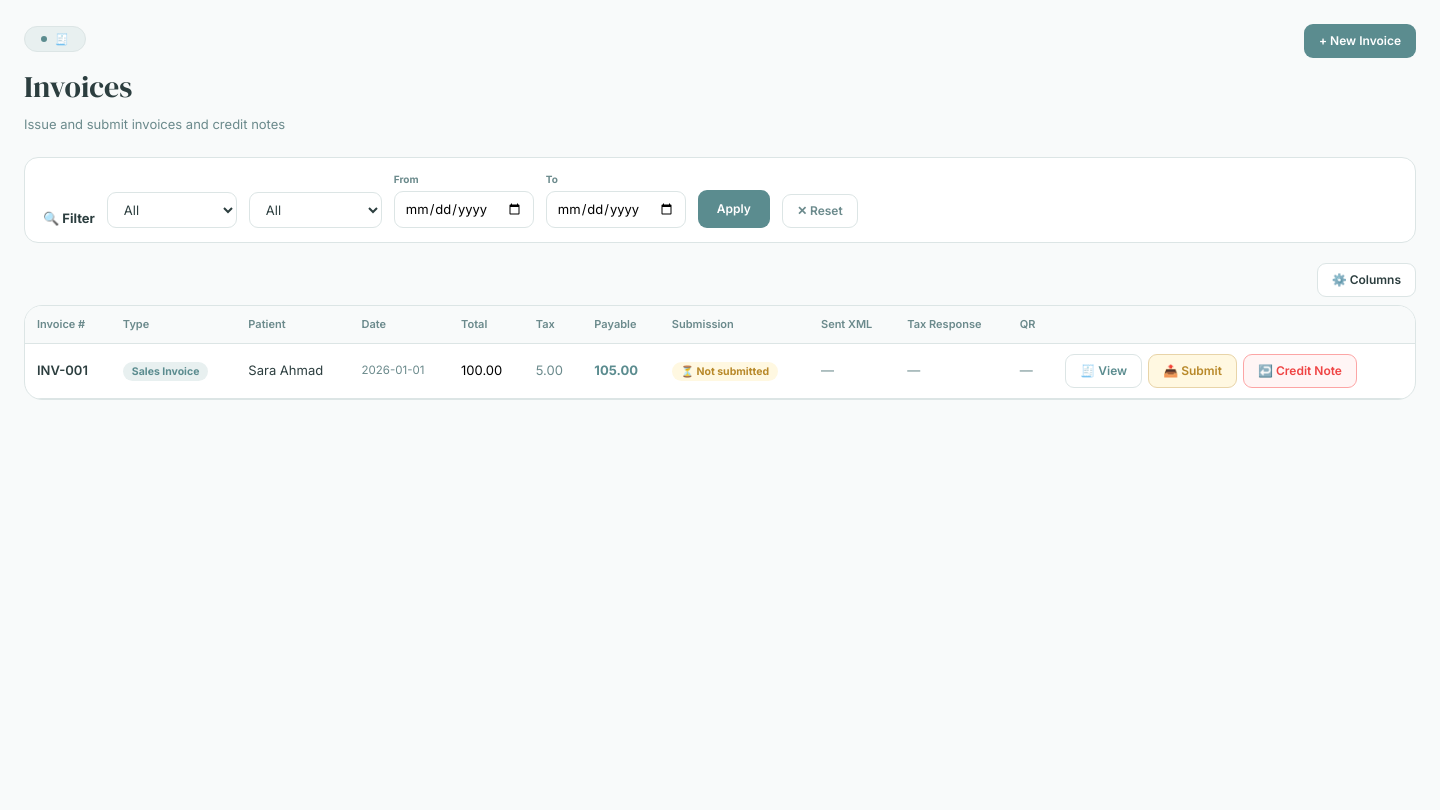
Invoices › opens the invoice view modal and shows its line items
The image size is (1440, 810).
Check: the text "Sara Ahmad" is shown, box [236, 343, 350, 398]
Step 1. Click the button "🧾 View" → (1104, 371), box [1065, 354, 1142, 388]
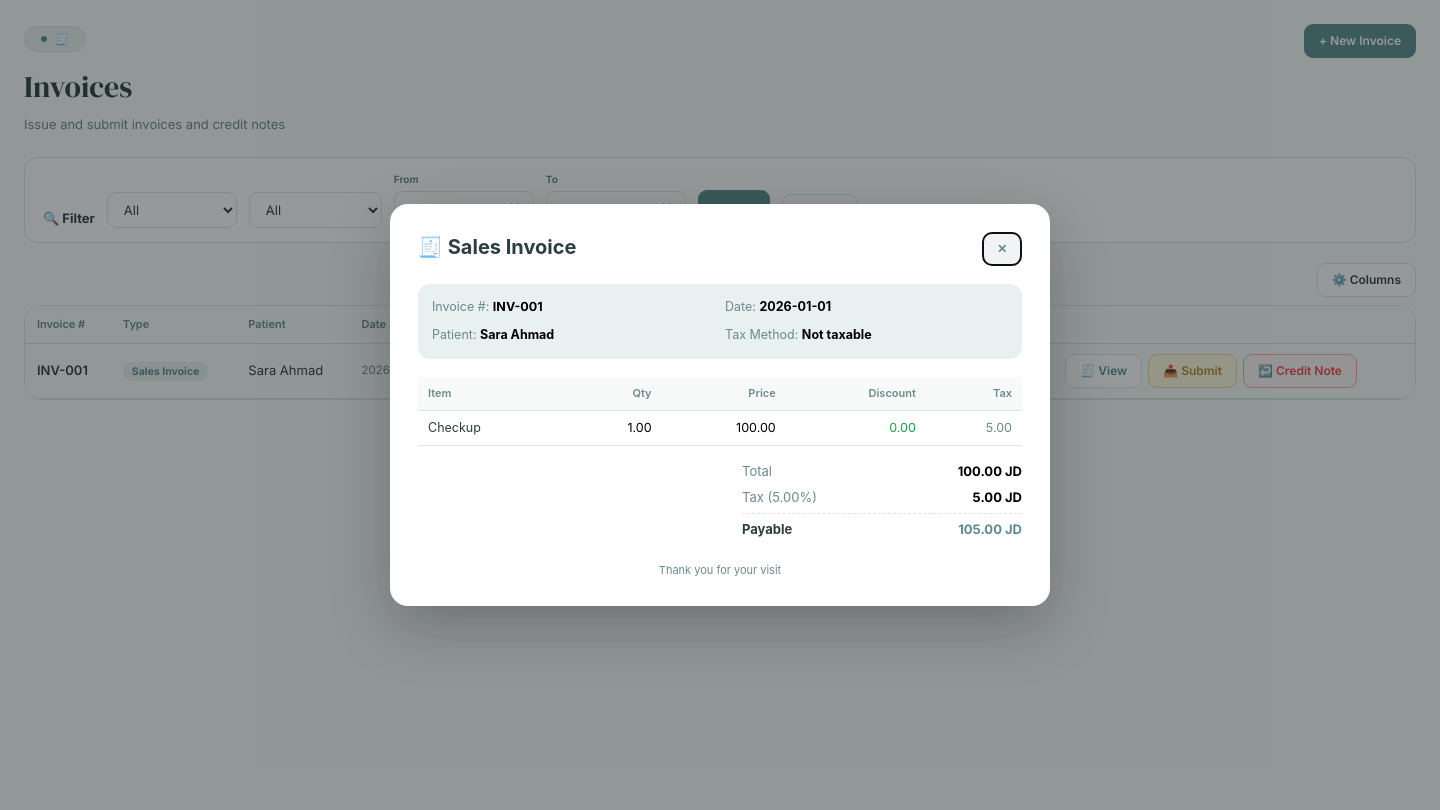
Check: the text "Checkup" is shown, box [418, 410, 570, 446]
